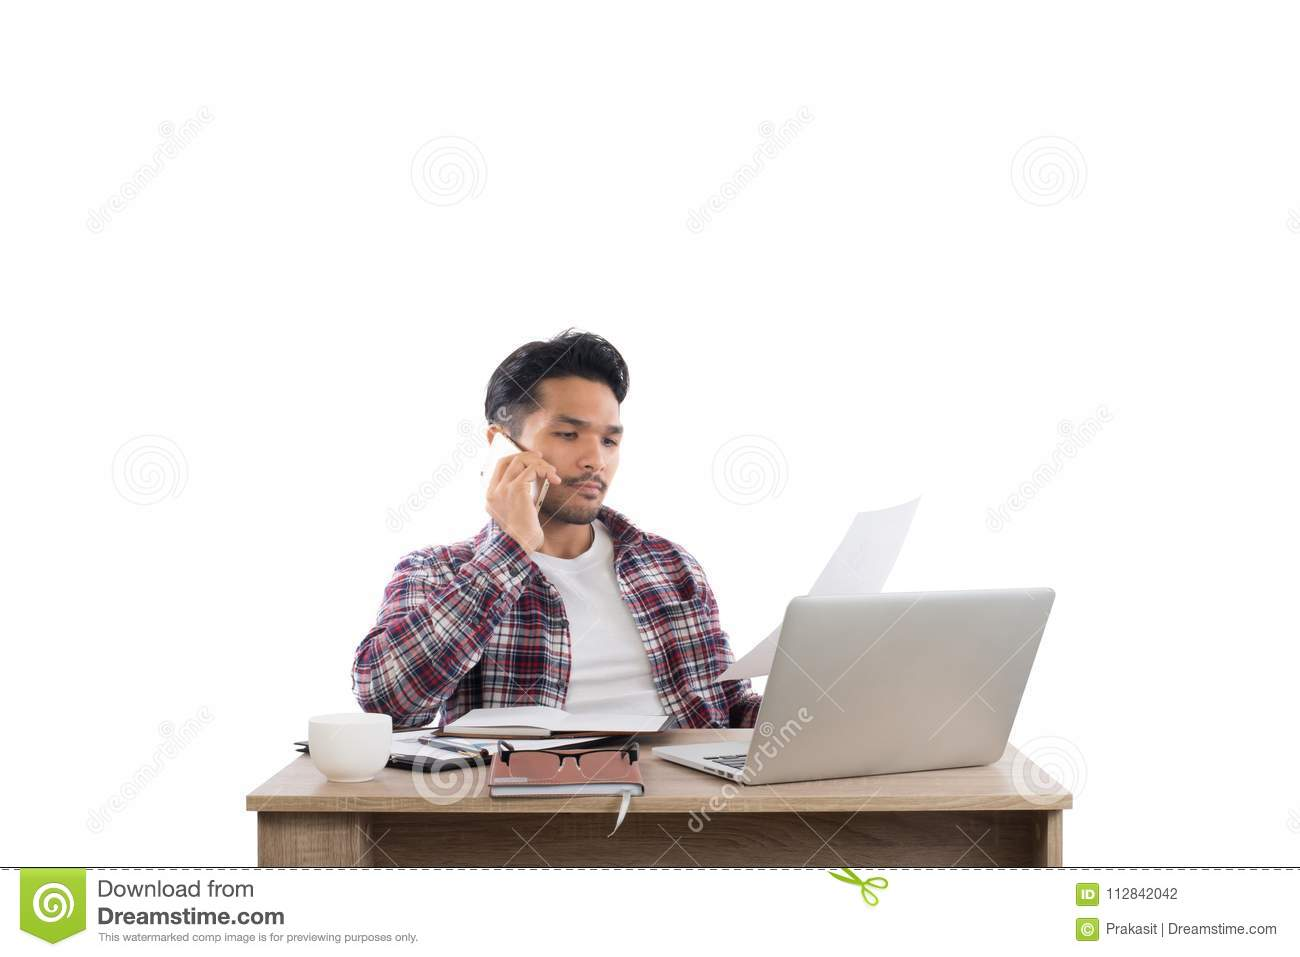phone: (479, 431, 549, 520)
talk: (475, 406, 626, 558)
